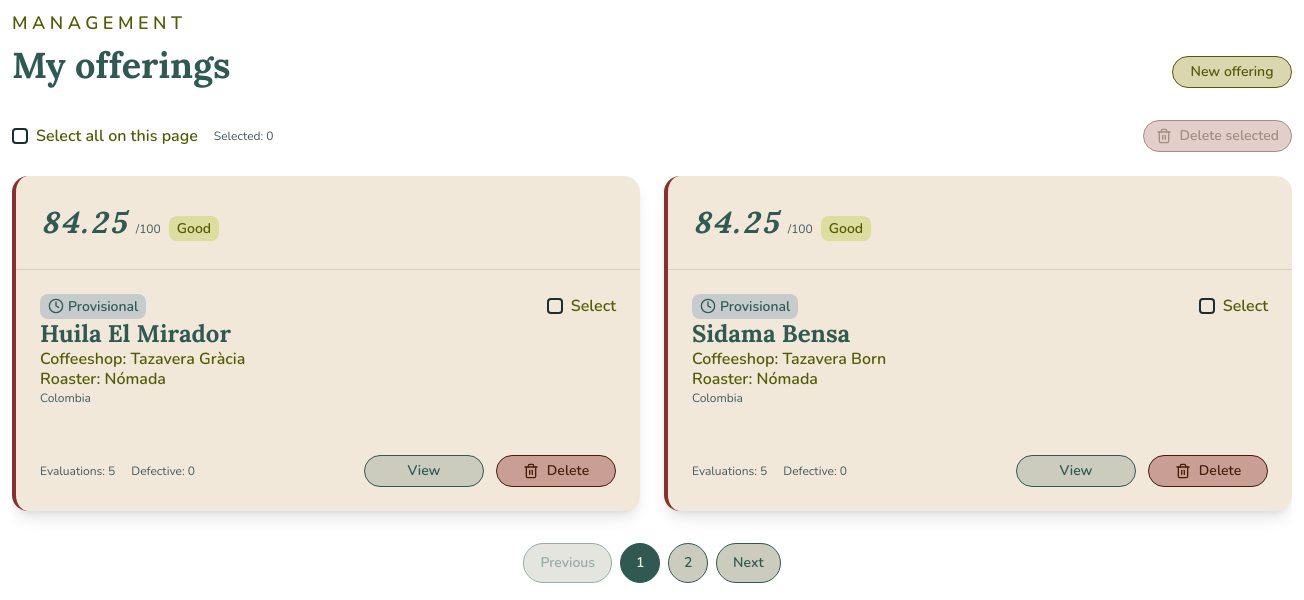
Test: ManageOfferingsPanel — selection (spec 'Offering selection') › toggles only the activated card and updates the count
Click the checkbox named "Select Huila El Mirador — Tazavera Gràcia" at (555, 306), box left=547, top=298, right=563, bottom=314
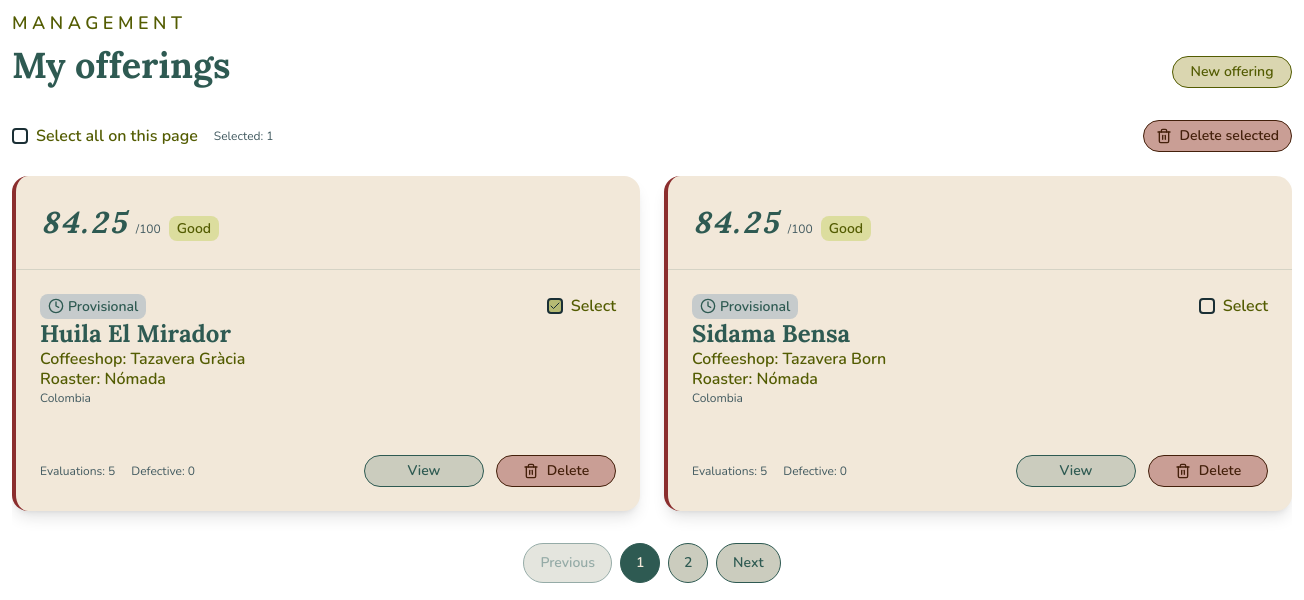
Check: the checkbox named "Select Sidama Bensa — Tazavera Born" is not checked, box left=1199, top=298, right=1215, bottom=314
Check: the checkbox named "Select Huila El Mirador — Tazavera Gràcia" is checked
Check: the text "Selected: 1" is shown, box left=214, top=126, right=274, bottom=144
Click the checkbox named "Select Huila El Mirador — Tazavera Gràcia" at (555, 306), box left=547, top=298, right=563, bottom=314
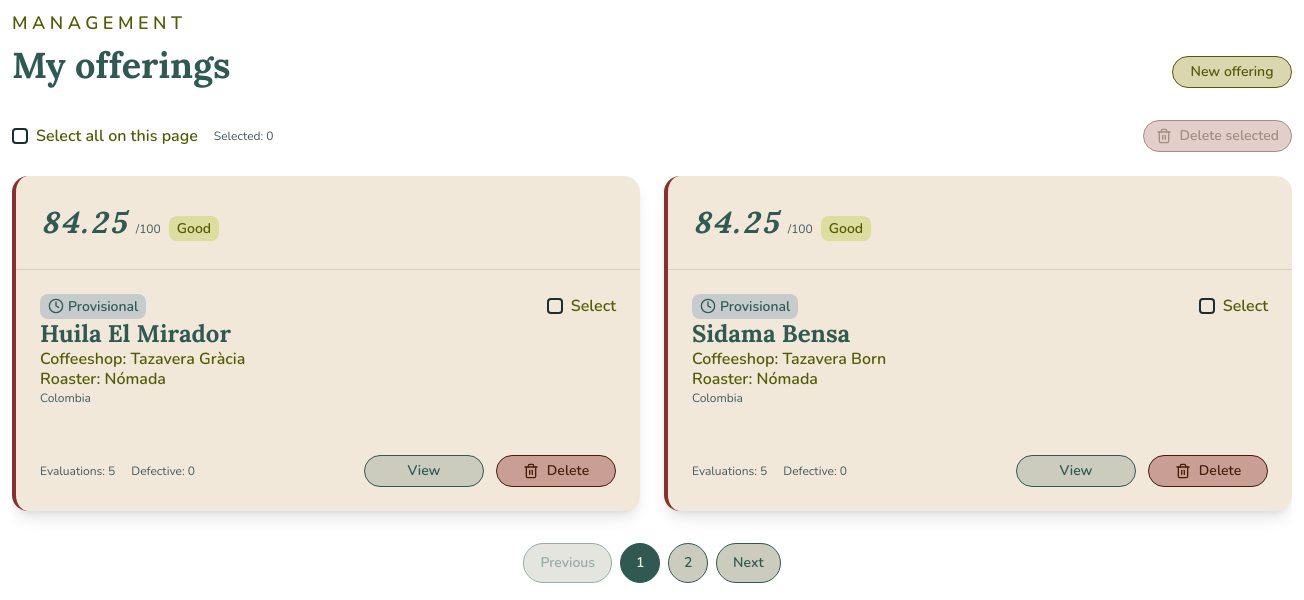
Check: the checkbox named "Select Huila El Mirador — Tazavera Gràcia" is not checked, box left=547, top=298, right=563, bottom=314
Check: the text "Selected: 0" is shown, box left=214, top=126, right=274, bottom=144
